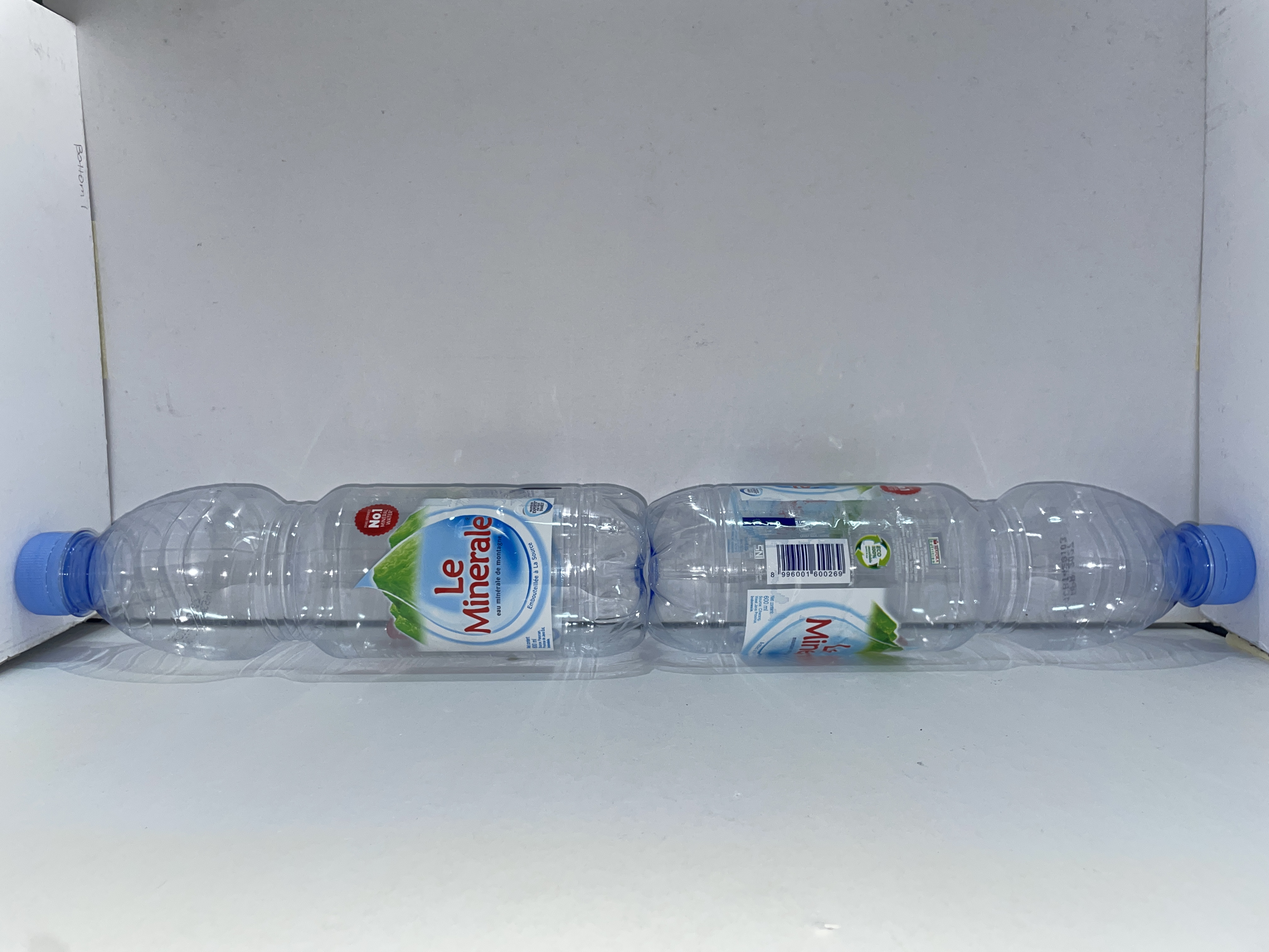Le Minerale 600ml: (644, 480, 1269, 666), (19, 484, 648, 662)
